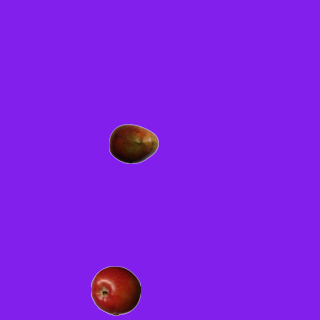Apple Braeburn: (90, 265, 140, 315)
Mango Red: (108, 118, 158, 168)
